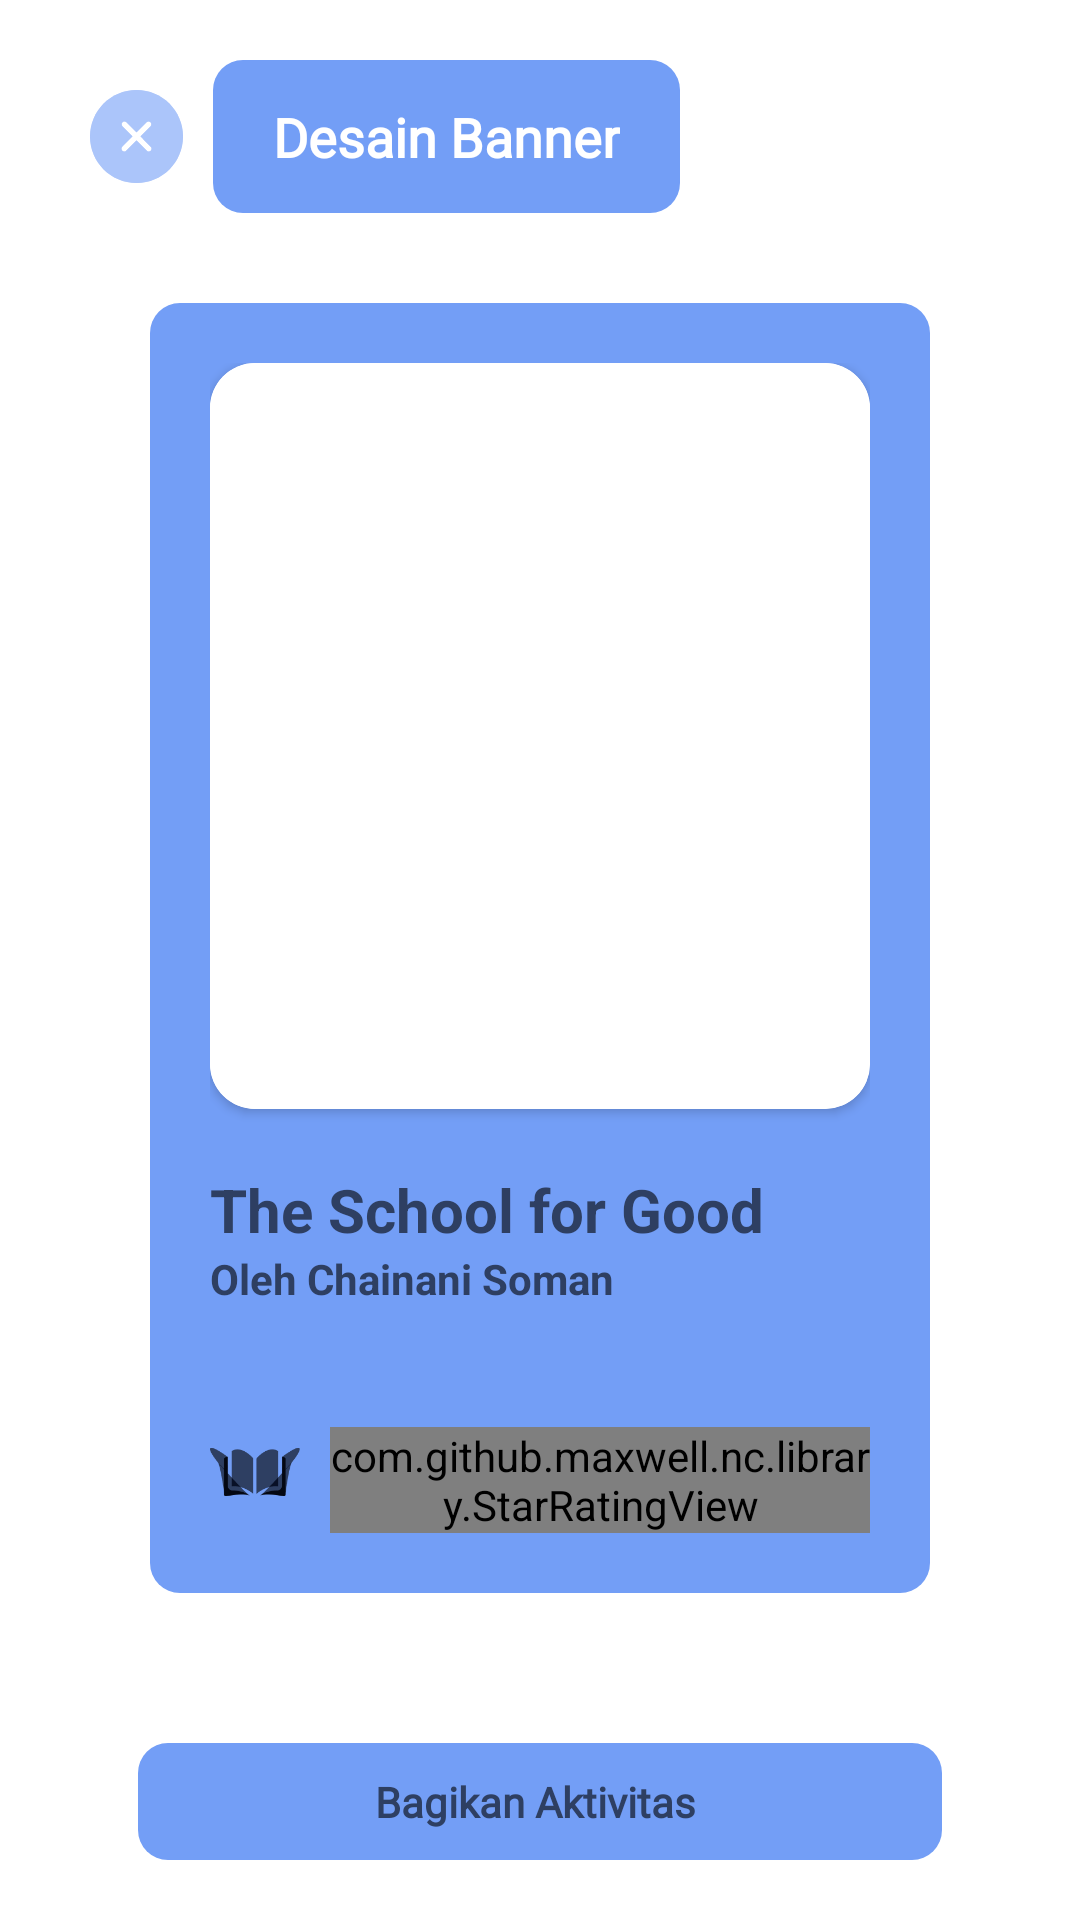

Icon bounding boxes for this 1080px x 1920px phone screenshot, format (x1, y1, x2, y2):
close share: (90, 90, 183, 183)
